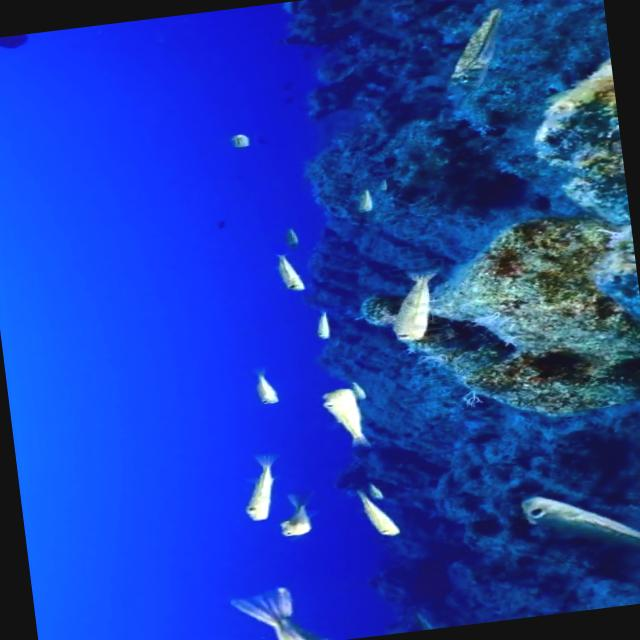Balon Baligi: (505, 471, 640, 578), (429, 8, 519, 86), (380, 262, 448, 342), (338, 477, 408, 550), (311, 380, 375, 454), (222, 456, 280, 528), (264, 492, 328, 544), (237, 362, 286, 418), (271, 248, 311, 298), (303, 304, 342, 344), (272, 224, 312, 250), (218, 132, 260, 156), (345, 191, 378, 217)
